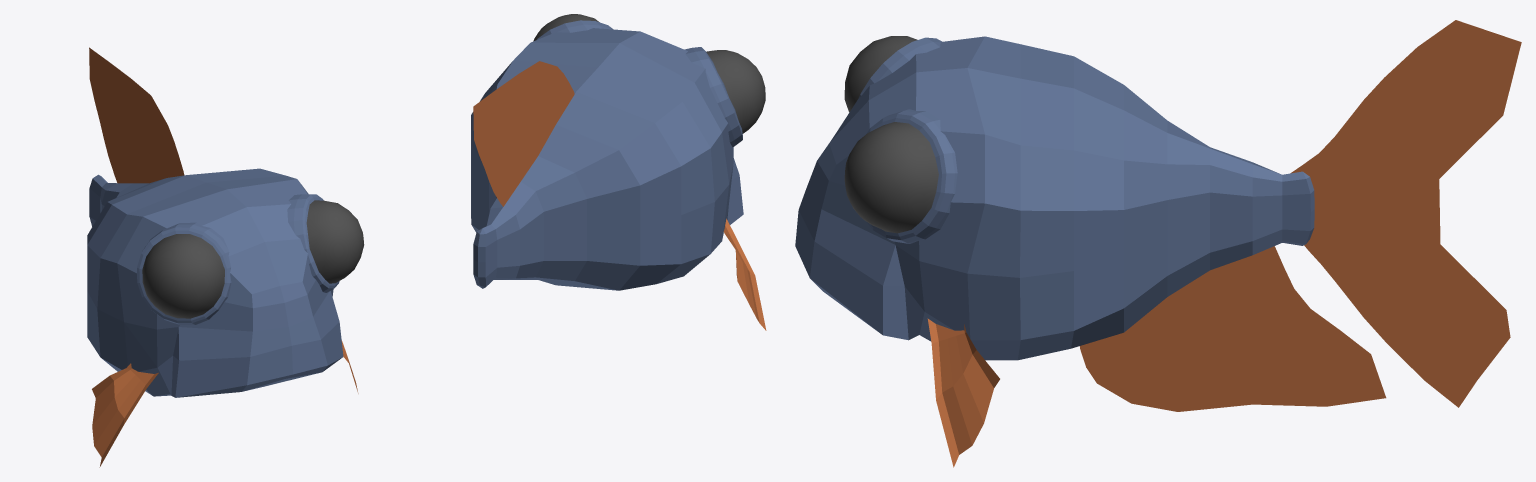
Rendered from betta.glb.
3 views of the same model, side by side, from view 1: azimuth 30°, elevation 25°; view 2: azimuth 150°, elevation 25°; view 3: azimuth 270°, elevation 25° (orthographic). The views are drawn at different scales.
Parts seen in each view (by area): view 1: cutefish__Betta.glb; view 2: cutefish__Betta.glb; view 3: cutefish__Betta.glb.
Boxes of the visible parts, x1,y1,x2,y2 form: cutefish__Betta.glb: (87,47,364,467); cutefish__Betta.glb: (471,14,766,330); cutefish__Betta.glb: (795,20,1521,467).
Size of the model in its own units: 3.07 by 3.38 by 5.59.
